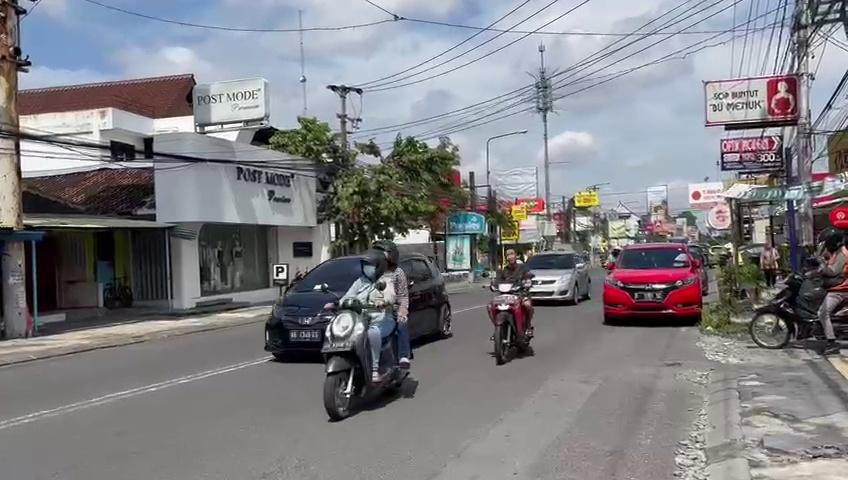helm: (358, 248, 387, 280), (371, 239, 399, 269), (815, 226, 845, 253)
nohelm: (504, 247, 518, 265)
riding: (320, 238, 416, 421), (749, 225, 848, 355), (481, 247, 537, 365)
